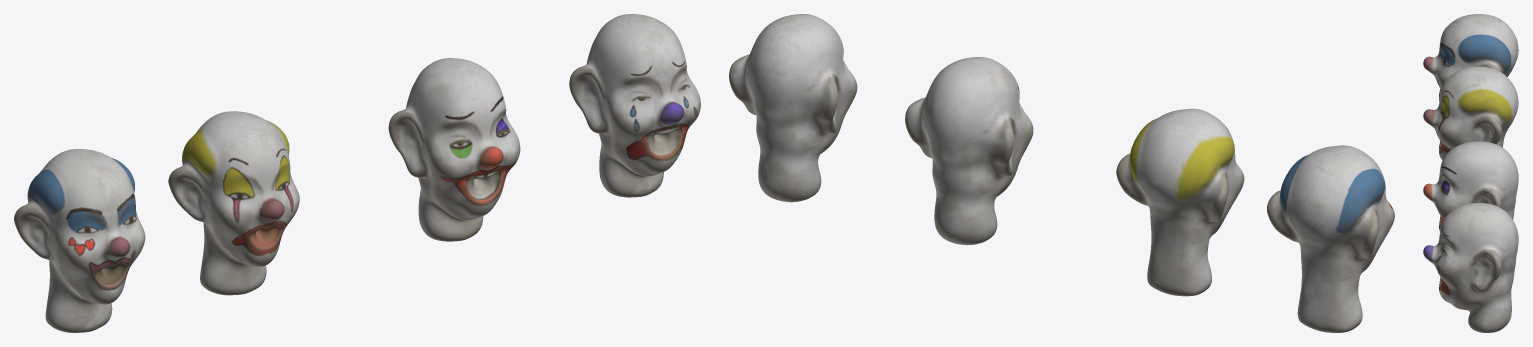
The model's file is clown_heads.glb.
3 renders of one model, left to right at view 1: azimuth 30°, elevation 25°; view 2: azimuth 150°, elevation 25°; view 3: azimuth 270°, elevation 25°, orthographic. The views are drawn at different scales.
Visible parts, largest first — view 1: Tete_mince1_low, Tete_mince2_low, Tete_gros1_low, Tete_gros2_low; view 2: Tete_gros2_low, Tete_gros1_low, Tete_mince1_low, Tete_mince2_low; view 3: Tete_gros2_low, Tete_mince1_low, Tete_gros1_low, Tete_mince2_low.
Boxes of the visible parts, box(x1,y1,x2,y2) form: Tete_mince1_low: box(168, 111, 299, 295); Tete_mince2_low: box(14, 149, 145, 332); Tete_gros1_low: box(388, 58, 520, 241); Tete_gros2_low: box(569, 14, 700, 197); Tete_gros2_low: box(729, 14, 857, 202); Tete_gros1_low: box(905, 57, 1033, 245); Tete_mince1_low: box(1116, 108, 1244, 296); Tete_mince2_low: box(1267, 145, 1394, 332); Tete_gros2_low: box(1423, 203, 1518, 332); Tete_mince1_low: box(1423, 66, 1518, 159); Tete_gros1_low: box(1423, 141, 1518, 231); Tete_mince2_low: box(1423, 14, 1518, 100).
Size of the model in its own units: 16.13 by 4.04 by 2.87.
1 material, 1 textured.
